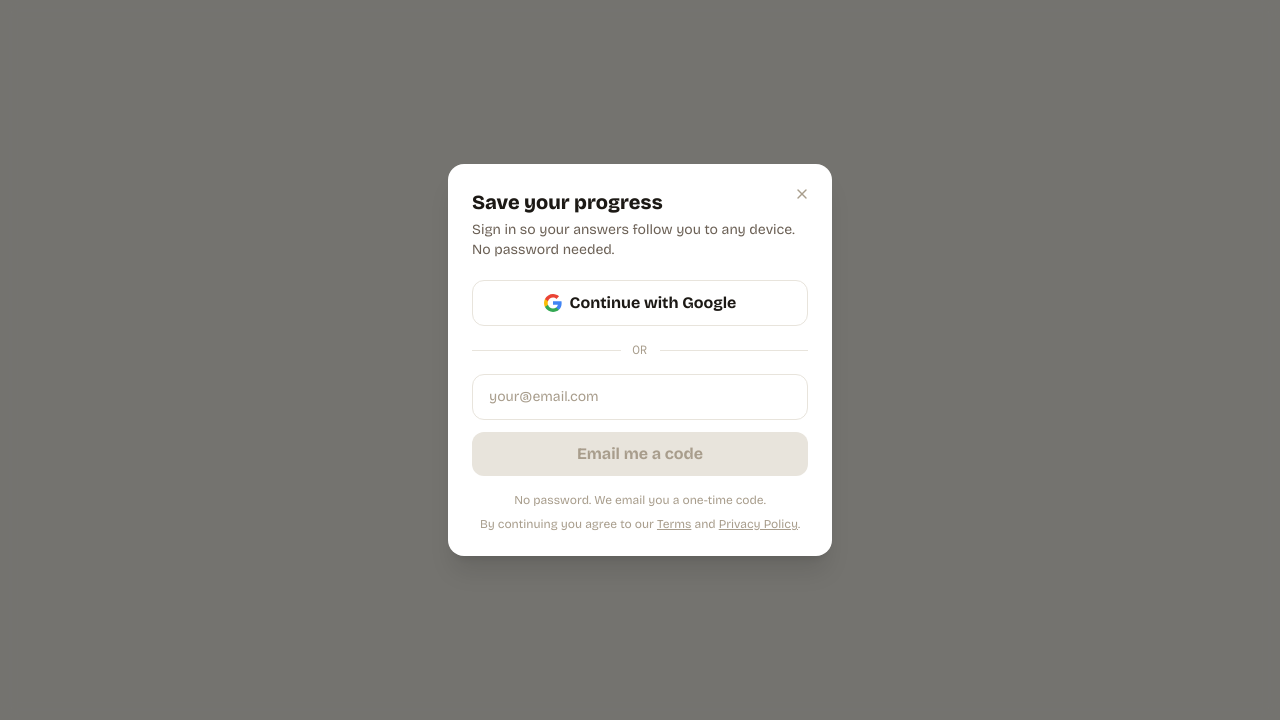
Test: AuthModal sign-in methods › recovers from a failed Google redirect
Click the button "Continue with Google": (640, 303) [472, 280, 808, 326]
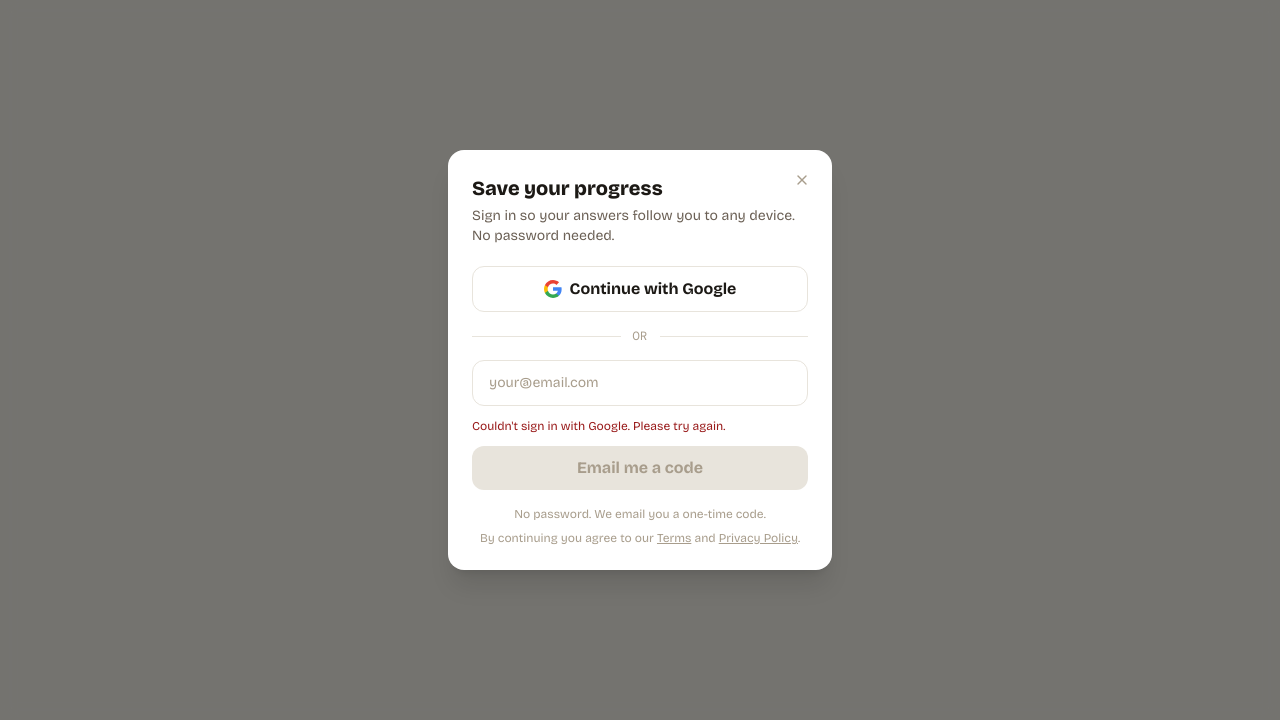
expect the button "Continue with Google" is enabled: met, box [472, 266, 808, 312]
expect the text "Couldn't sign in with Google. Please try again." is shown: met, box [472, 419, 725, 433]
